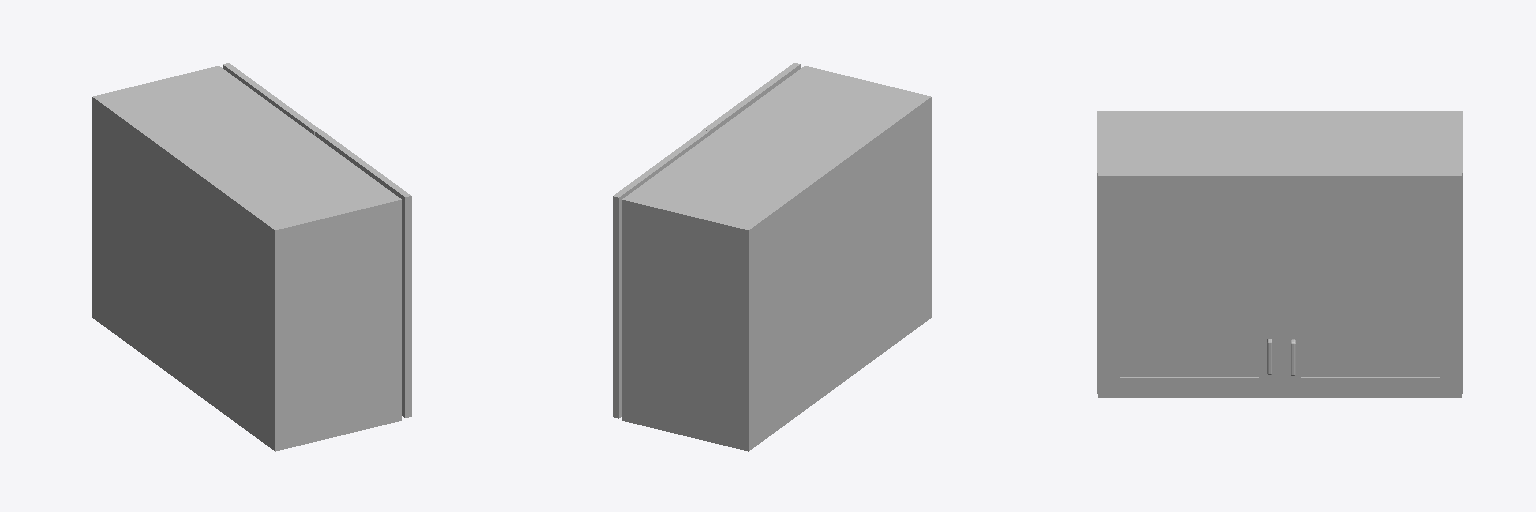
Rendered from cabinet.obj.
3 renders of one model, left to right at view 1: azimuth 30°, elevation 25°; view 2: azimuth 150°, elevation 25°; view 3: azimuth 270°, elevation 25°, orthographic.
Visible parts, largest first — view 1: Cube, Cube.001_Cube.003, Cube.002_Cube.005; view 2: Cube, Cube.002_Cube.005, Cube.001_Cube.003; view 3: Cube.001_Cube.003, Cube.002_Cube.005, Cube.
Part boxes in pixels (bbox=[...]): Cube: bbox=[92, 66, 401, 451]; Cube.001_Cube.003: bbox=[314, 129, 411, 417]; Cube.002_Cube.005: bbox=[223, 63, 318, 135]; Cube: bbox=[622, 66, 931, 451]; Cube.002_Cube.005: bbox=[613, 130, 710, 418]; Cube.001_Cube.003: bbox=[703, 63, 800, 133]; Cube.001_Cube.003: bbox=[1098, 173, 1280, 397]; Cube.002_Cube.005: bbox=[1281, 173, 1461, 397]; Cube: bbox=[1097, 111, 1462, 393].
Bounding box in the file's own units: 0.684 × 1 × 1.5.